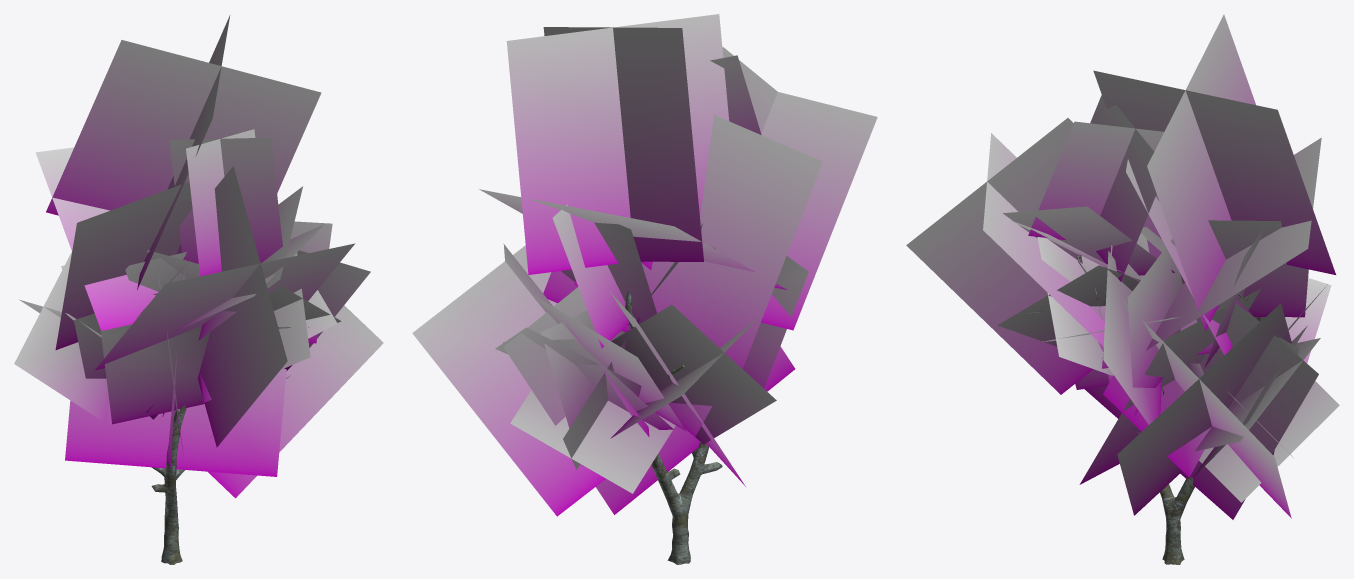
File: Tree_B.fbx
The picture shows the model from 3 angles, left to right: view 1: azimuth 30°, elevation 25°; view 2: azimuth 150°, elevation 25°; view 3: azimuth 270°, elevation 25°; orthographic projection. The views are drawn at different scales.
Visible parts, largest first — view 1: Tree_B; view 2: Tree_B; view 3: Tree_B.
Part boxes in pixels (left/top/right/bottom): Tree_B: left=14, top=15, right=383, bottom=564; Tree_B: left=412, top=14, right=877, bottom=564; Tree_B: left=906, top=14, right=1339, bottom=564.
Size of the model in its own units: 1947 by 2970 by 2188.
